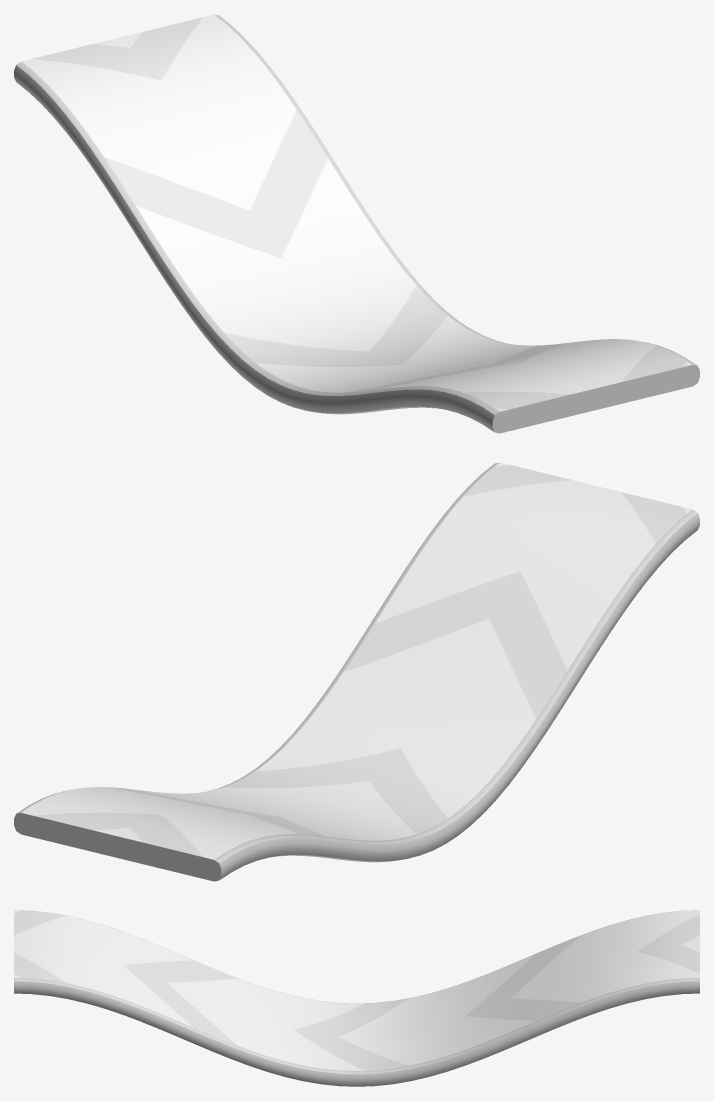
File: floor_slope_down_long.fbx
3 views of the same model, one above another, from view 1: azimuth 30°, elevation 25°; view 2: azimuth 150°, elevation 25°; view 3: azimuth 270°, elevation 25° (orthographic). The views are drawn at different scales.
Parts seen in each view (by area): view 1: floor_slope_down_long; view 2: floor_slope_down_long; view 3: floor_slope_down_long.
Part boxes in pixels (x1,y1,x2,y2): floor_slope_down_long: (14,14,699,433); floor_slope_down_long: (14,462,699,881); floor_slope_down_long: (14,910,699,1086).
Bounding box in the file's own units: 500 × 350 × 2000.
Materials: 2 (1 with a texture image).
